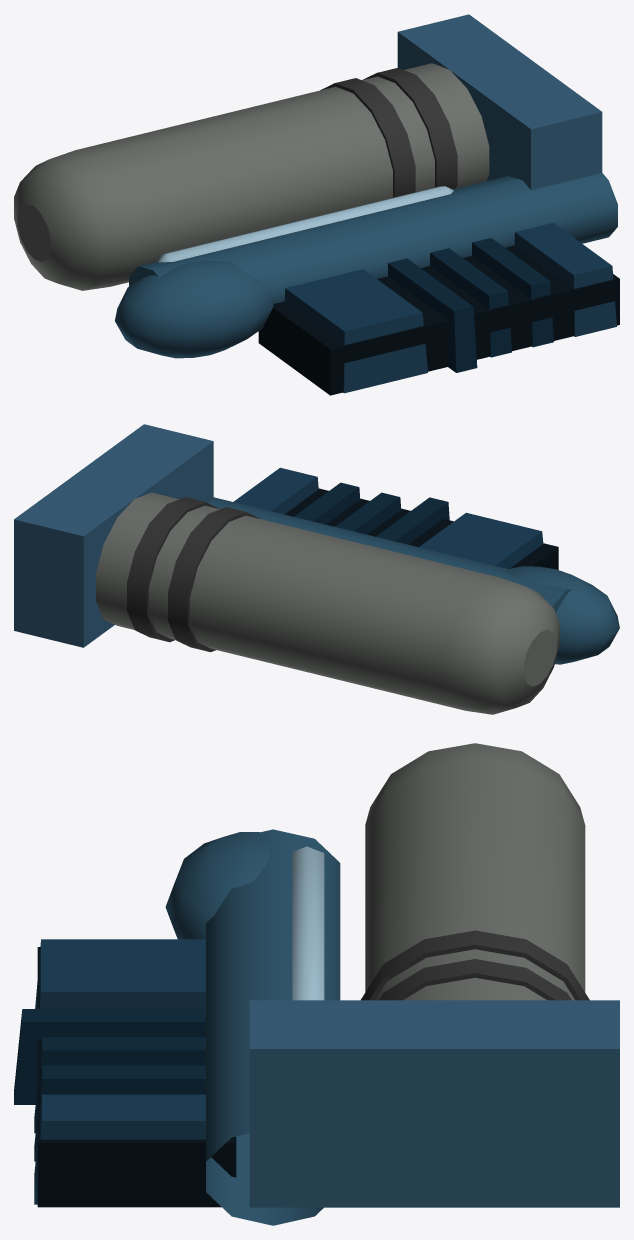
Rendered from newshc-269.glb.
3 views of the same model, one above another, from view 1: azimuth 30°, elevation 25°; view 2: azimuth 150°, elevation 25°; view 3: azimuth 270°, elevation 25° (orthographic). The views are drawn at different scales.
Parts seen in each view (by area): view 1: newshc-269; view 2: newshc-269; view 3: newshc-269.
Boxes of the visible parts, x1,y1,x2,y2 form: newshc-269: (14,14,619,395); newshc-269: (14,424,619,714); newshc-269: (14,743,619,1225).
Size of the model in its own units: 1.93 by 0.5542 by 1.5.
